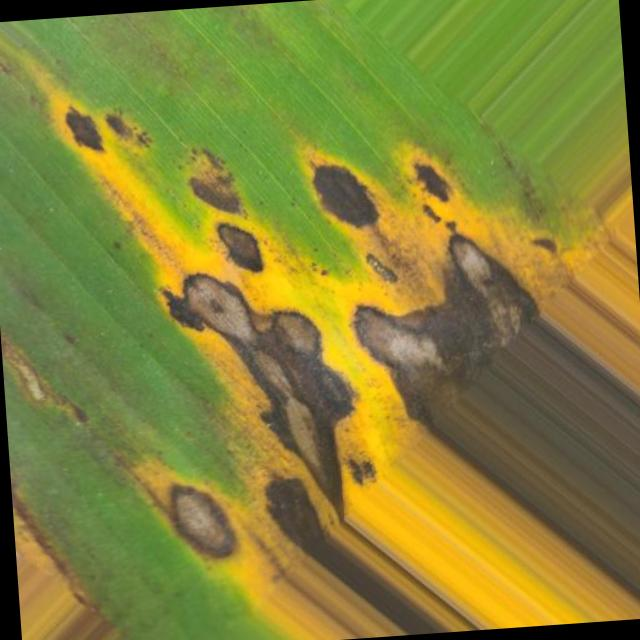Banana_Yellow_Sigatoka: (60, 61, 538, 630)
